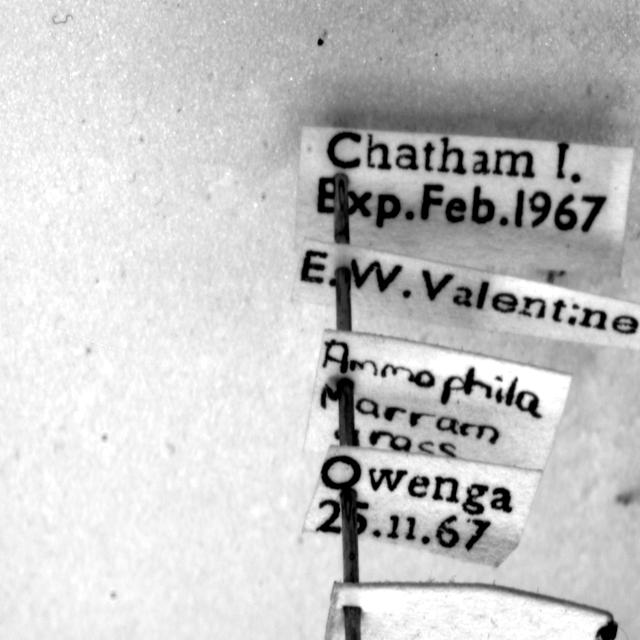hand_label: (304, 330, 571, 471)
typed_label: (352, 309, 640, 639), (295, 126, 634, 276), (292, 240, 640, 351), (304, 446, 541, 566)
